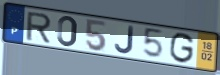0: (57, 15, 79, 48)
5: (85, 18, 108, 53), (143, 27, 165, 61)
G: (168, 32, 196, 65)
J: (114, 25, 136, 56)
R: (25, 11, 53, 44)
